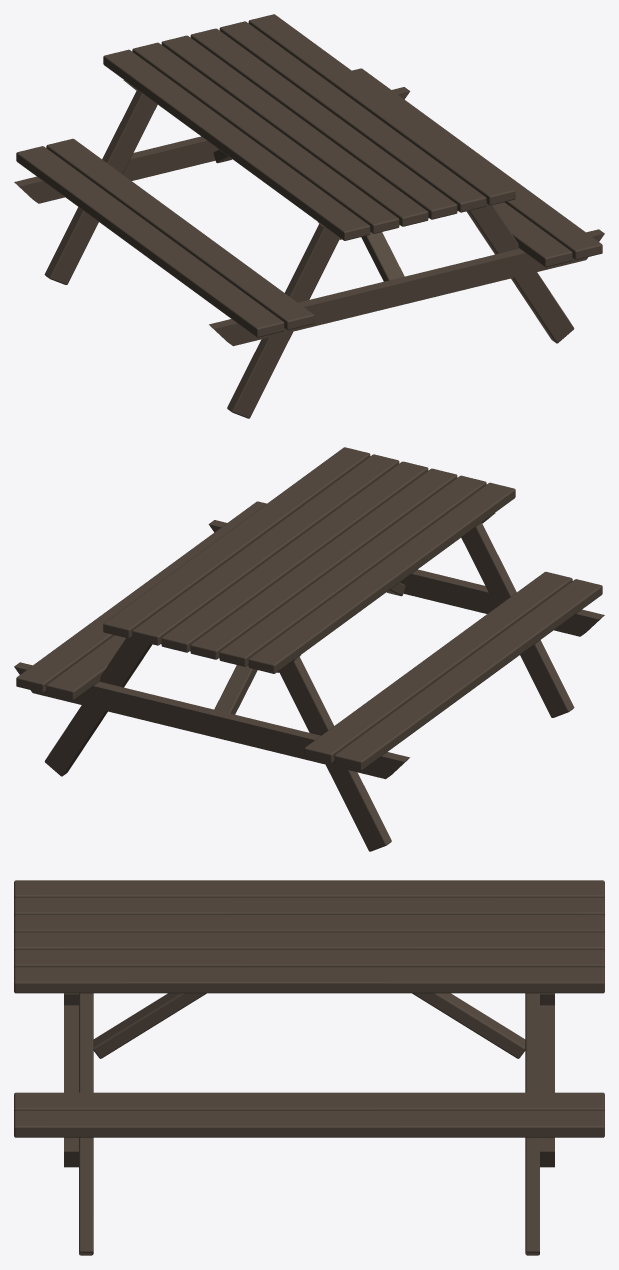
File: SM_Prop_cafe_picnic_1.glb
3 views of the same model, one above another, from view 1: azimuth 30°, elevation 25°; view 2: azimuth 150°, elevation 25°; view 3: azimuth 270°, elevation 25° (orthographic). The views are drawn at different scales.
Visible parts, largest first — view 1: SM_Prop_cafe_picnic_1; view 2: SM_Prop_cafe_picnic_1; view 3: SM_Prop_cafe_picnic_1.
Part boxes in pixels (x1,y1,x2,y2): SM_Prop_cafe_picnic_1: [14, 14, 604, 418]; SM_Prop_cafe_picnic_1: [14, 447, 604, 851]; SM_Prop_cafe_picnic_1: [14, 880, 604, 1255].
Size of the model in its own units: 1.68 by 0.7807 by 1.8.
